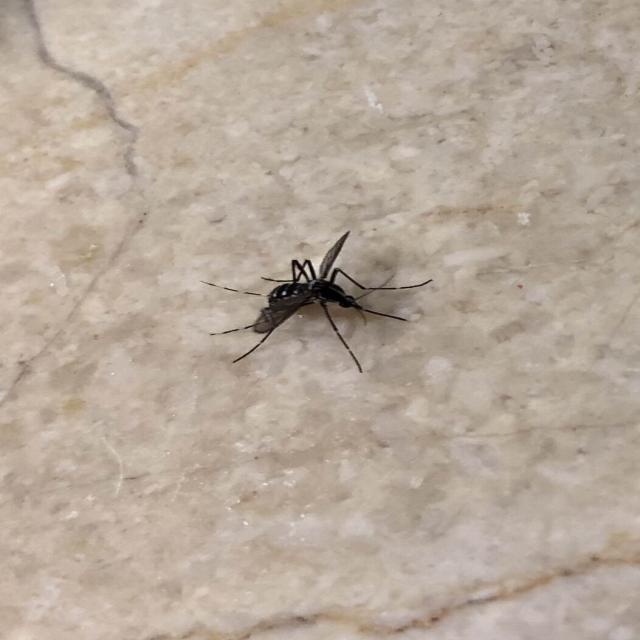albopictus: (189, 224, 432, 376)
